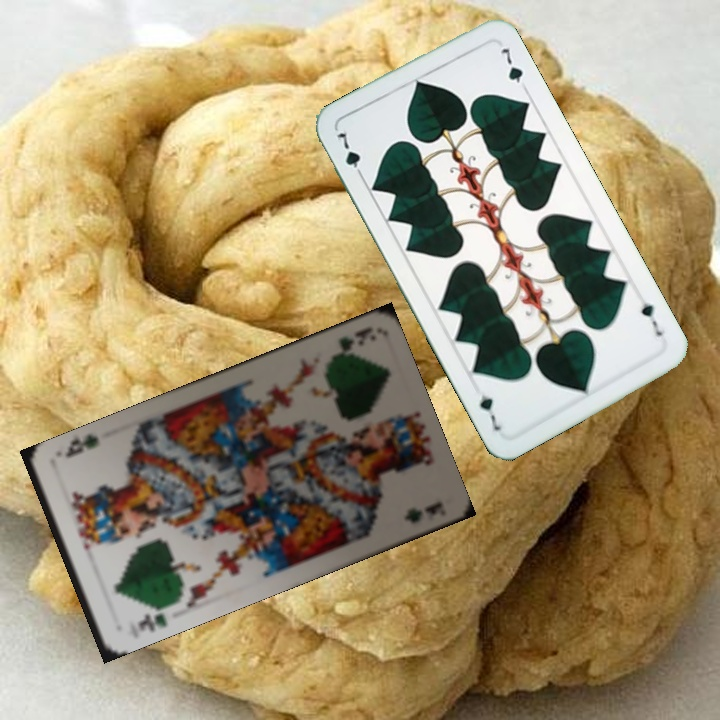G7: (332, 128, 367, 182), (636, 298, 666, 339)
GK: (323, 323, 374, 364), (134, 601, 172, 634)
